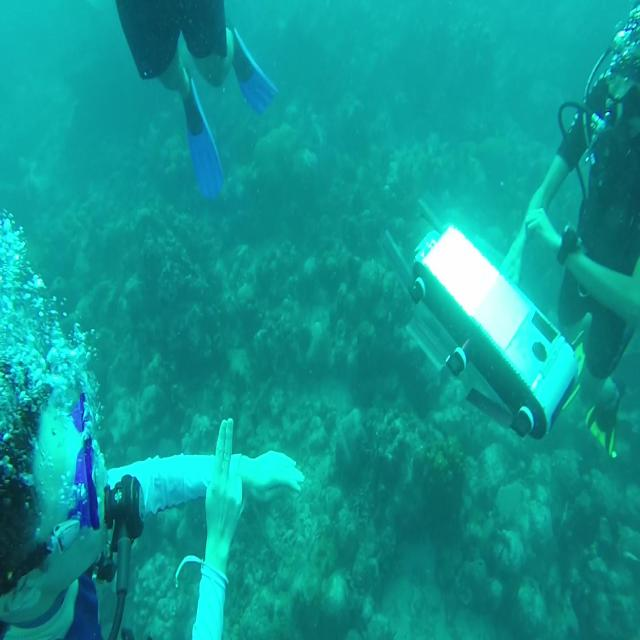human: (1, 385, 304, 638), (501, 3, 639, 456), (114, 0, 278, 199)
